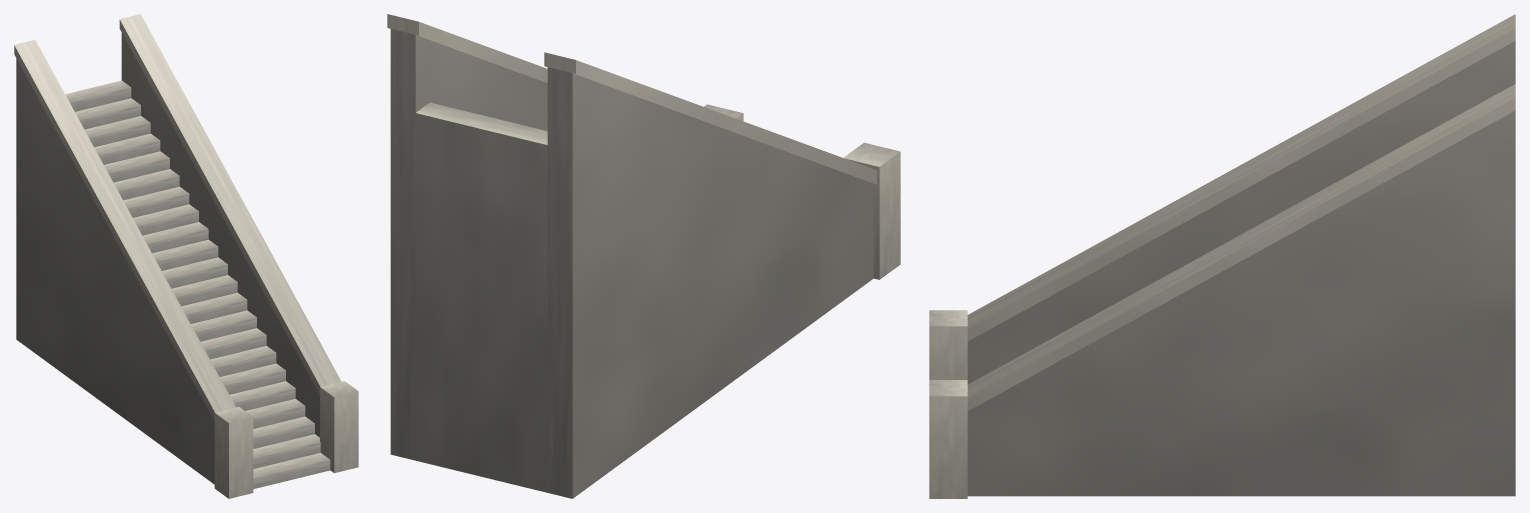
The model's file is wall_stairs_stone_01.glb.
3 renders of one model, left to right at view 1: azimuth 30°, elevation 25°; view 2: azimuth 150°, elevation 25°; view 3: azimuth 270°, elevation 25°, orthographic. The views are drawn at different scales.
Parts seen in each view (by area): view 1: wall_stairs_stone_01; view 2: wall_stairs_stone_01; view 3: wall_stairs_stone_01.
Boxes of the visible parts, <box> form: wall_stairs_stone_01: <box>14,14,358,498</box>; wall_stairs_stone_01: <box>387,14,900,498</box>; wall_stairs_stone_01: <box>929,14,1515,498</box>.
Size of the model in its own units: 2.33 by 5.06 by 6.72.
Materials: 1 (1 with a texture image).
